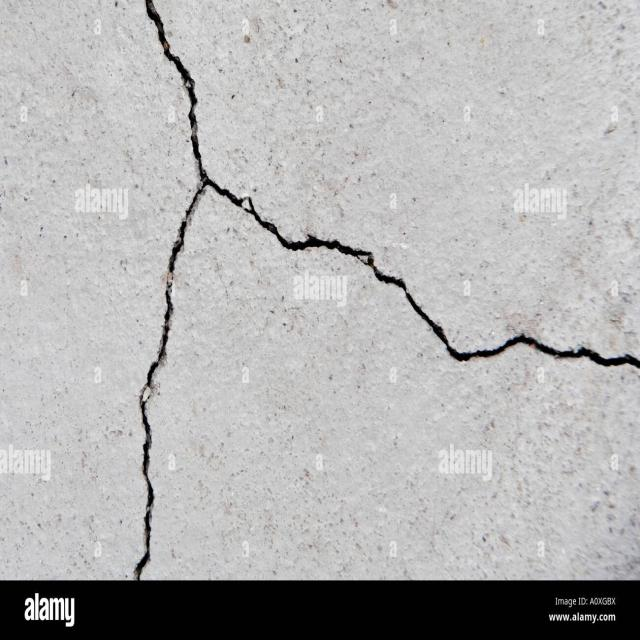Crack: (146, 0, 640, 370), (130, 0, 209, 580)
